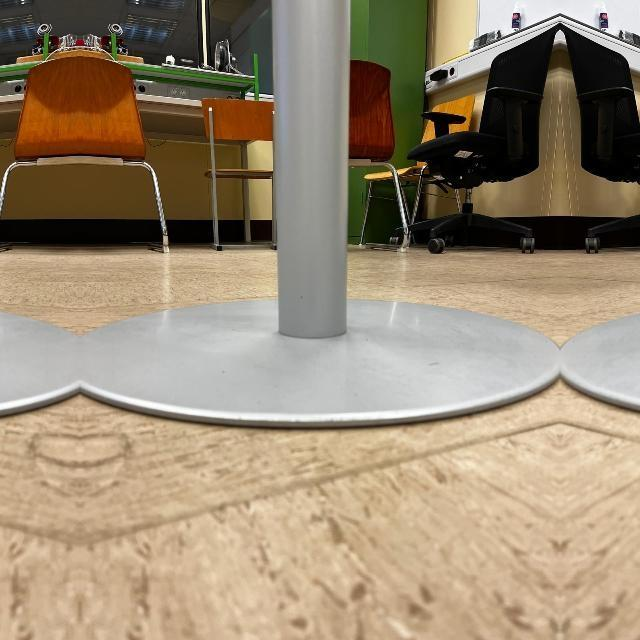obstacle: (80, 31, 560, 423), (0, 31, 80, 423), (560, 31, 640, 423)
